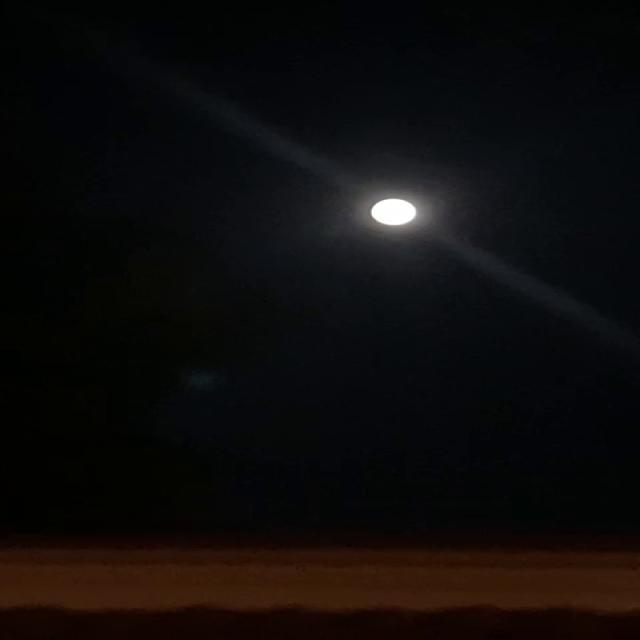moon: (364, 192, 436, 231)
